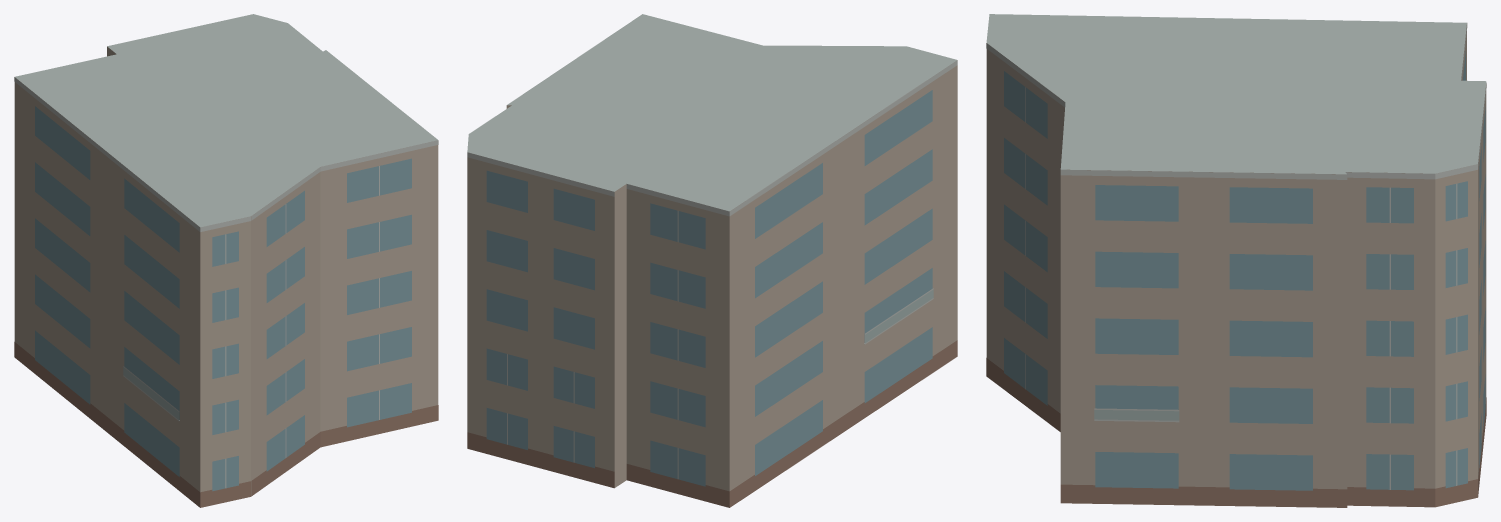
Rendered from survey-upis-32457930.glb.
3 renders of one model, left to right at view 1: azimuth 30°, elevation 25°; view 2: azimuth 150°, elevation 25°; view 3: azimuth 270°, elevation 25°, orthographic. The views are drawn at different scales.
Parts seen in each view (by area): view 1: survey-upis-32457930.tmp; view 2: survey-upis-32457930.tmp; view 3: survey-upis-32457930.tmp.
Boxes of the visible parts, box(x1,y1,x2,y2) form: survey-upis-32457930.tmp: box(14, 14, 438, 507); survey-upis-32457930.tmp: box(467, 14, 957, 507); survey-upis-32457930.tmp: box(986, 14, 1486, 507).
Bounding box in the file's own units: 14.8 × 14.35 × 19.51.
